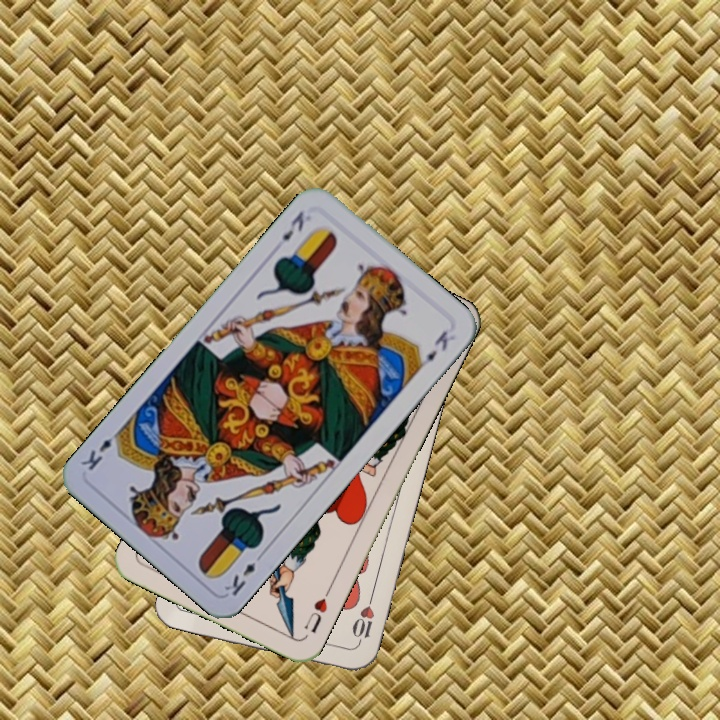EK: (220, 547, 267, 599), (278, 206, 307, 244)
H10: (348, 592, 377, 650)
HU: (300, 584, 334, 635)
